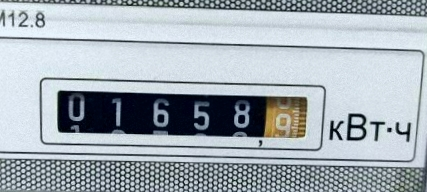0: (65, 91, 86, 121)
1: (108, 95, 126, 127)
5: (190, 98, 212, 130)
6: (150, 95, 171, 128)
8: (231, 96, 252, 129)
9: (271, 111, 293, 139)
screen: (29, 68, 330, 157)
